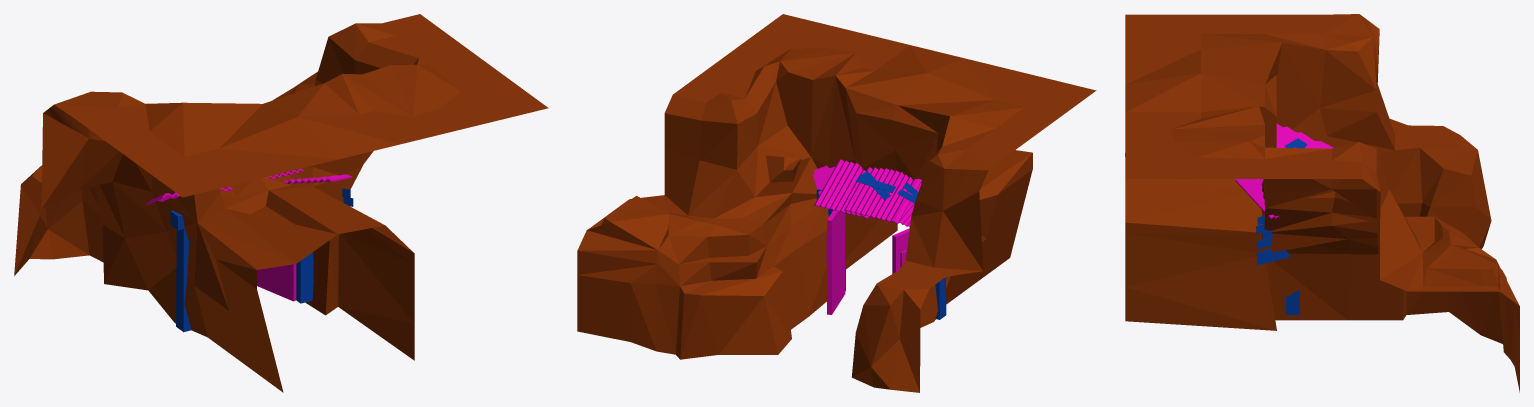
The model's file is End piece.fbx.
3 views of the same model, side by side, from view 1: azimuth 30°, elevation 25°; view 2: azimuth 150°, elevation 25°; view 3: azimuth 270°, elevation 25° (orthographic). The views are drawn at different scales.
Visible parts, largest first — view 1: Rock, Wood, Metal; view 2: Rock, Metal, Wood; view 3: Rock, Metal, Wood.
Boxes of the visible parts, x1=… form: Rock: x1=14, y1=14, x2=548, y2=392; Wood: x1=170, y1=188, x2=353, y2=332; Metal: x1=147, y1=169, x2=352, y2=301; Rock: x1=577, y1=14, x2=1096, y2=392; Metal: x1=813, y1=159, x2=921, y2=314; Wood: x1=816, y1=171, x2=946, y2=319; Rock: x1=1125, y1=14, x2=1519, y2=392; Metal: x1=1235, y1=123, x2=1333, y2=218; Wood: x1=1256, y1=138, x2=1307, y2=314.
Bounding box in the file's own units: 15.08 × 8.78 × 14.14.
